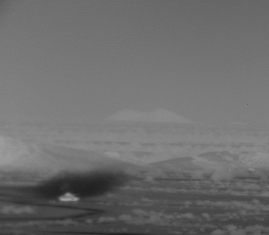Target: (60, 192, 78, 200)
